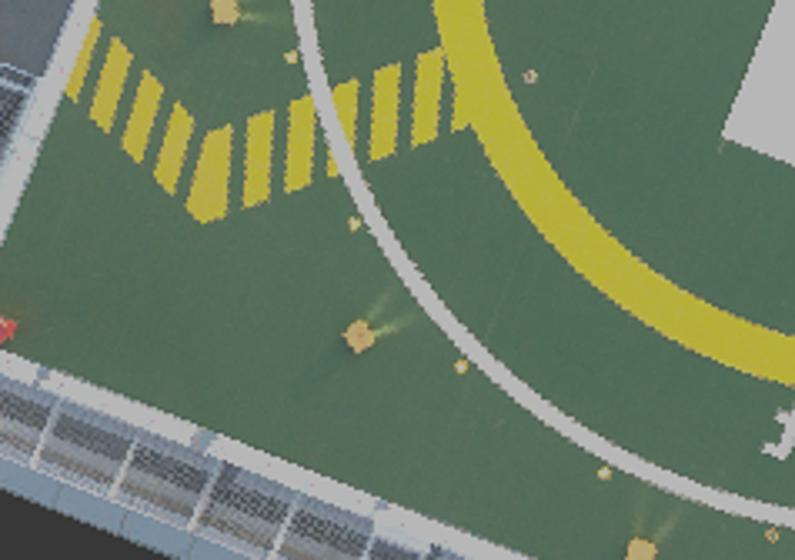Apron: (413, 1, 795, 412)
